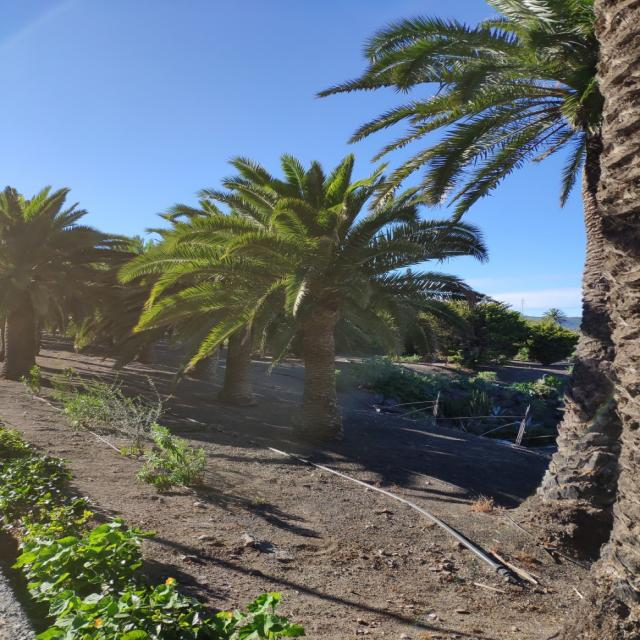Palm-Trees: (185, 159, 452, 442)
